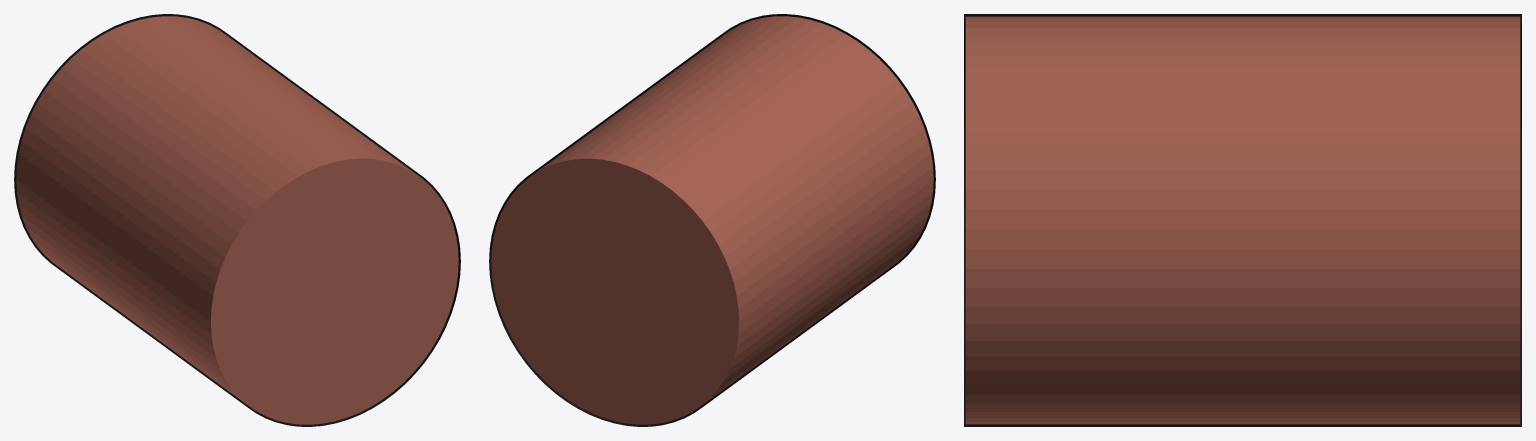
File: Barquillo.fbx
The picture shows the model from 3 angles, left to right: view 1: azimuth 30°, elevation 25°; view 2: azimuth 150°, elevation 25°; view 3: azimuth 270°, elevation 25°; orthographic projection. The views are drawn at different scales.
Parts seen in each view (by area): view 1: Cylinder.001; view 2: Cylinder.001; view 3: Cylinder.001.
Boxes of the visible parts, x1,y1,x2,y2 form: Cylinder.001: (14,14,460,426); Cylinder.001: (489,14,935,426); Cylinder.001: (964,14,1521,426).
Size of the model in its own units: 28.49 by 28.49 by 38.44.
